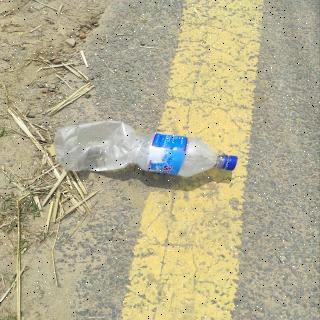Plastic-bottle: (50, 118, 241, 182)
